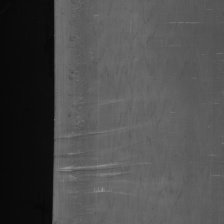crease: (60, 162, 131, 179), (60, 127, 119, 142), (58, 148, 95, 159)
